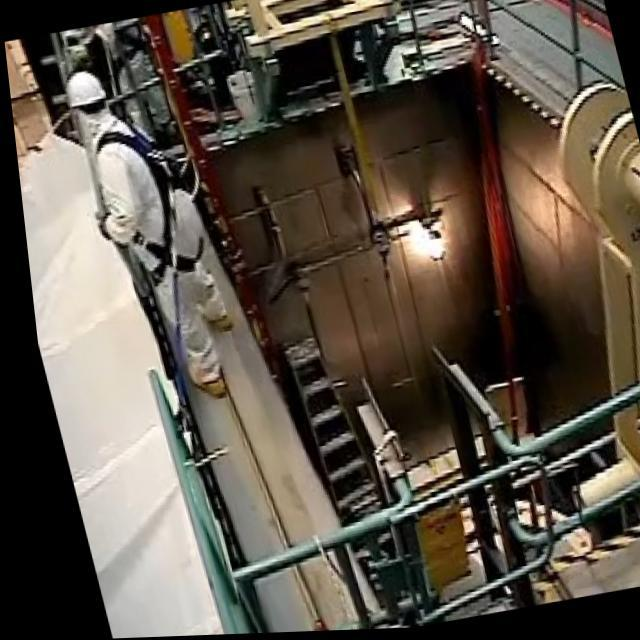belt: (88, 116, 212, 287)
